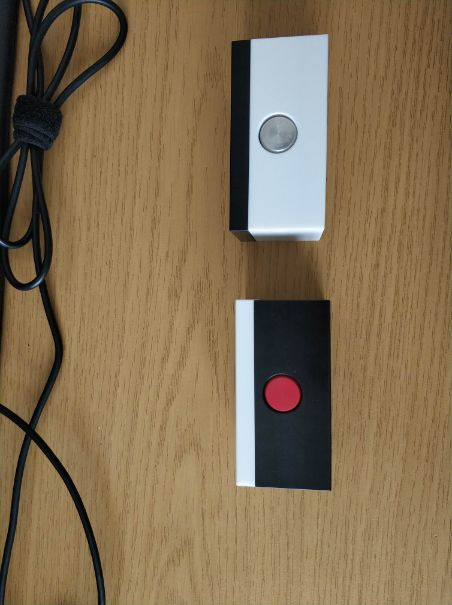black+white+silver: (228, 33, 333, 245)
white+black+red: (231, 296, 335, 495)
